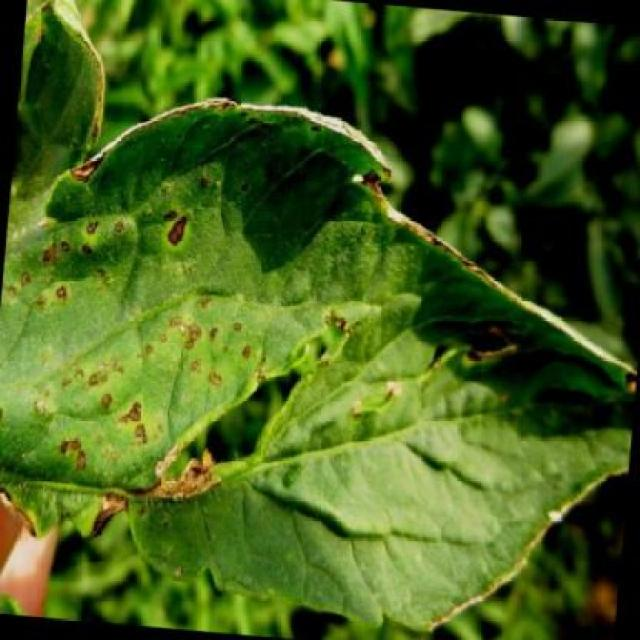Tomato leaf bacterial spot: (0, 77, 637, 640)
